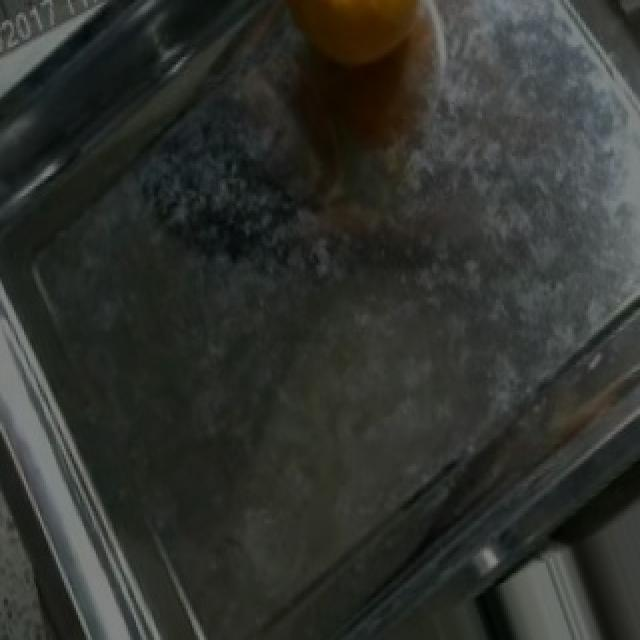Fruit: (250, 2, 460, 97)
